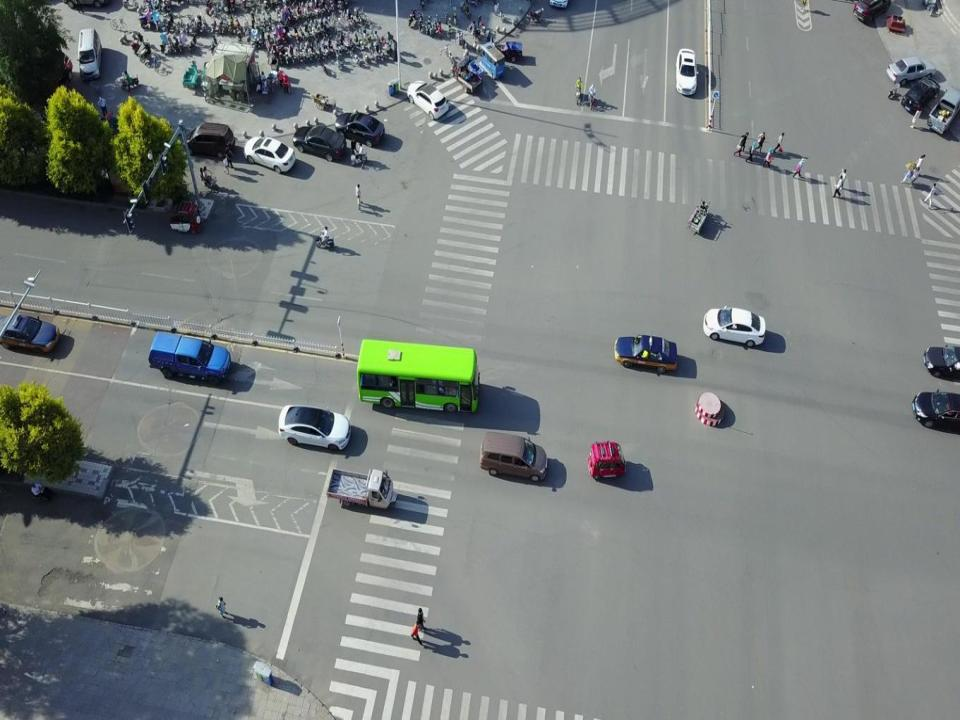bus: (357, 338, 480, 413)
car: (278, 405, 350, 449), (704, 305, 766, 346), (615, 332, 677, 373), (0, 312, 59, 352), (912, 388, 960, 431), (294, 123, 346, 162), (243, 136, 296, 173), (334, 111, 385, 148), (183, 123, 235, 158), (408, 80, 449, 120), (39, 51, 73, 98), (886, 55, 937, 86), (927, 86, 960, 133), (902, 77, 940, 112), (923, 344, 960, 378), (675, 47, 699, 96), (170, 200, 202, 234), (853, 0, 891, 24), (381, 34, 391, 56), (349, 51, 361, 69), (368, 44, 378, 63), (375, 42, 384, 62), (360, 46, 368, 65), (334, 52, 342, 70)
van: (149, 330, 231, 382), (479, 431, 547, 482), (76, 28, 102, 81)
